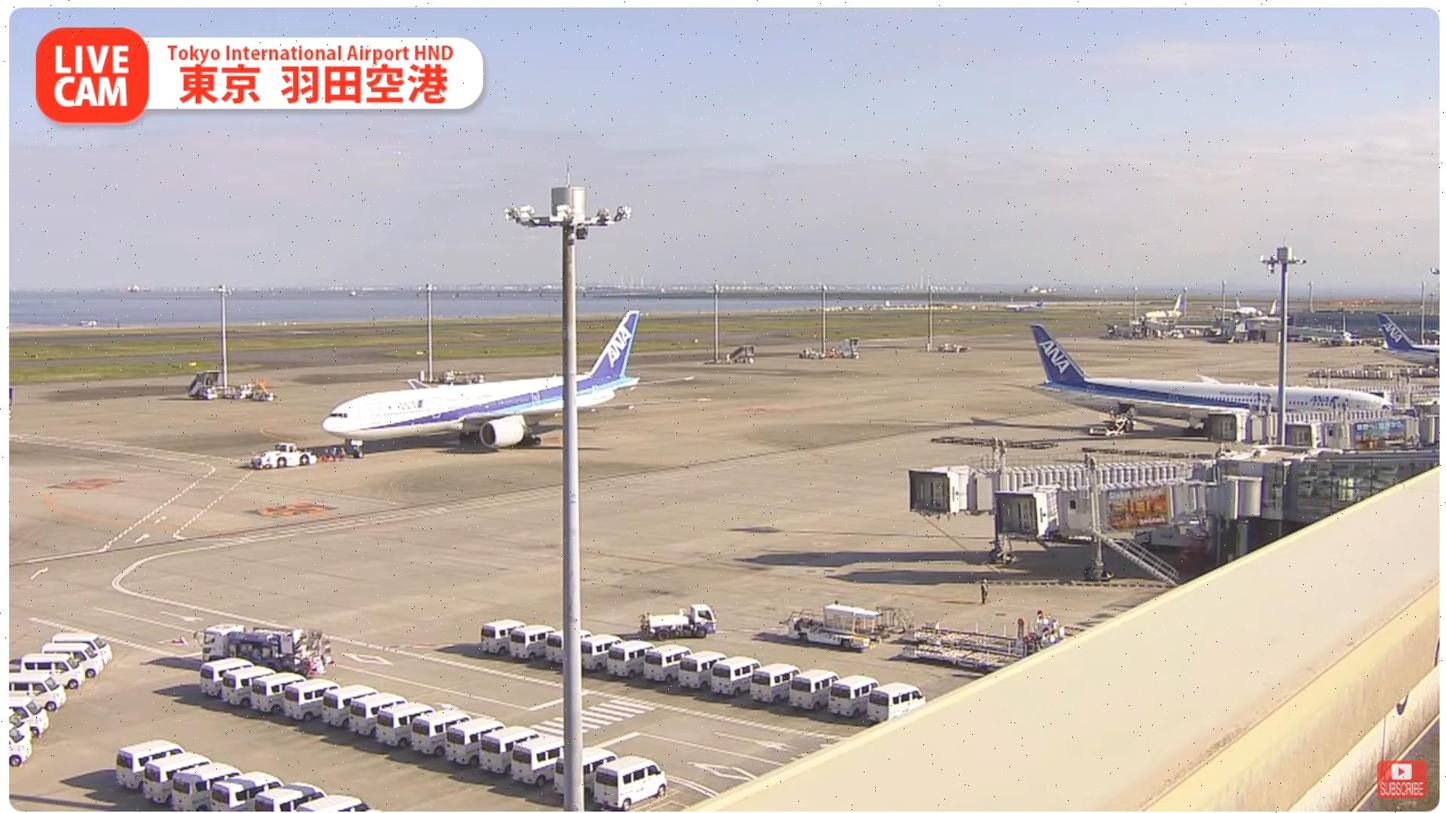APS: (247, 439, 340, 477)
Aerobridge: (885, 461, 1213, 512), (956, 480, 1243, 535)
Airplane: (322, 307, 723, 458)
JCPL: (907, 616, 1080, 676)
Skyloader: (773, 607, 898, 644)
Window: (1270, 448, 1442, 536)
